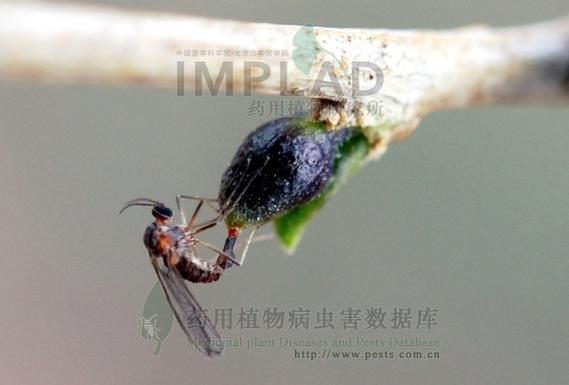Cecidomyiidae: (114, 155, 264, 362)
